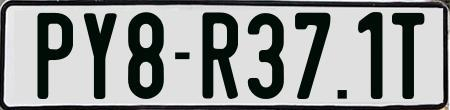1: (357, 9, 387, 96)
3: (245, 11, 281, 97)
7: (294, 10, 332, 101)
8: (128, 12, 170, 99)
P: (35, 11, 73, 102)
R: (201, 11, 240, 102)
T: (389, 12, 427, 98)
Y: (82, 10, 119, 99)
